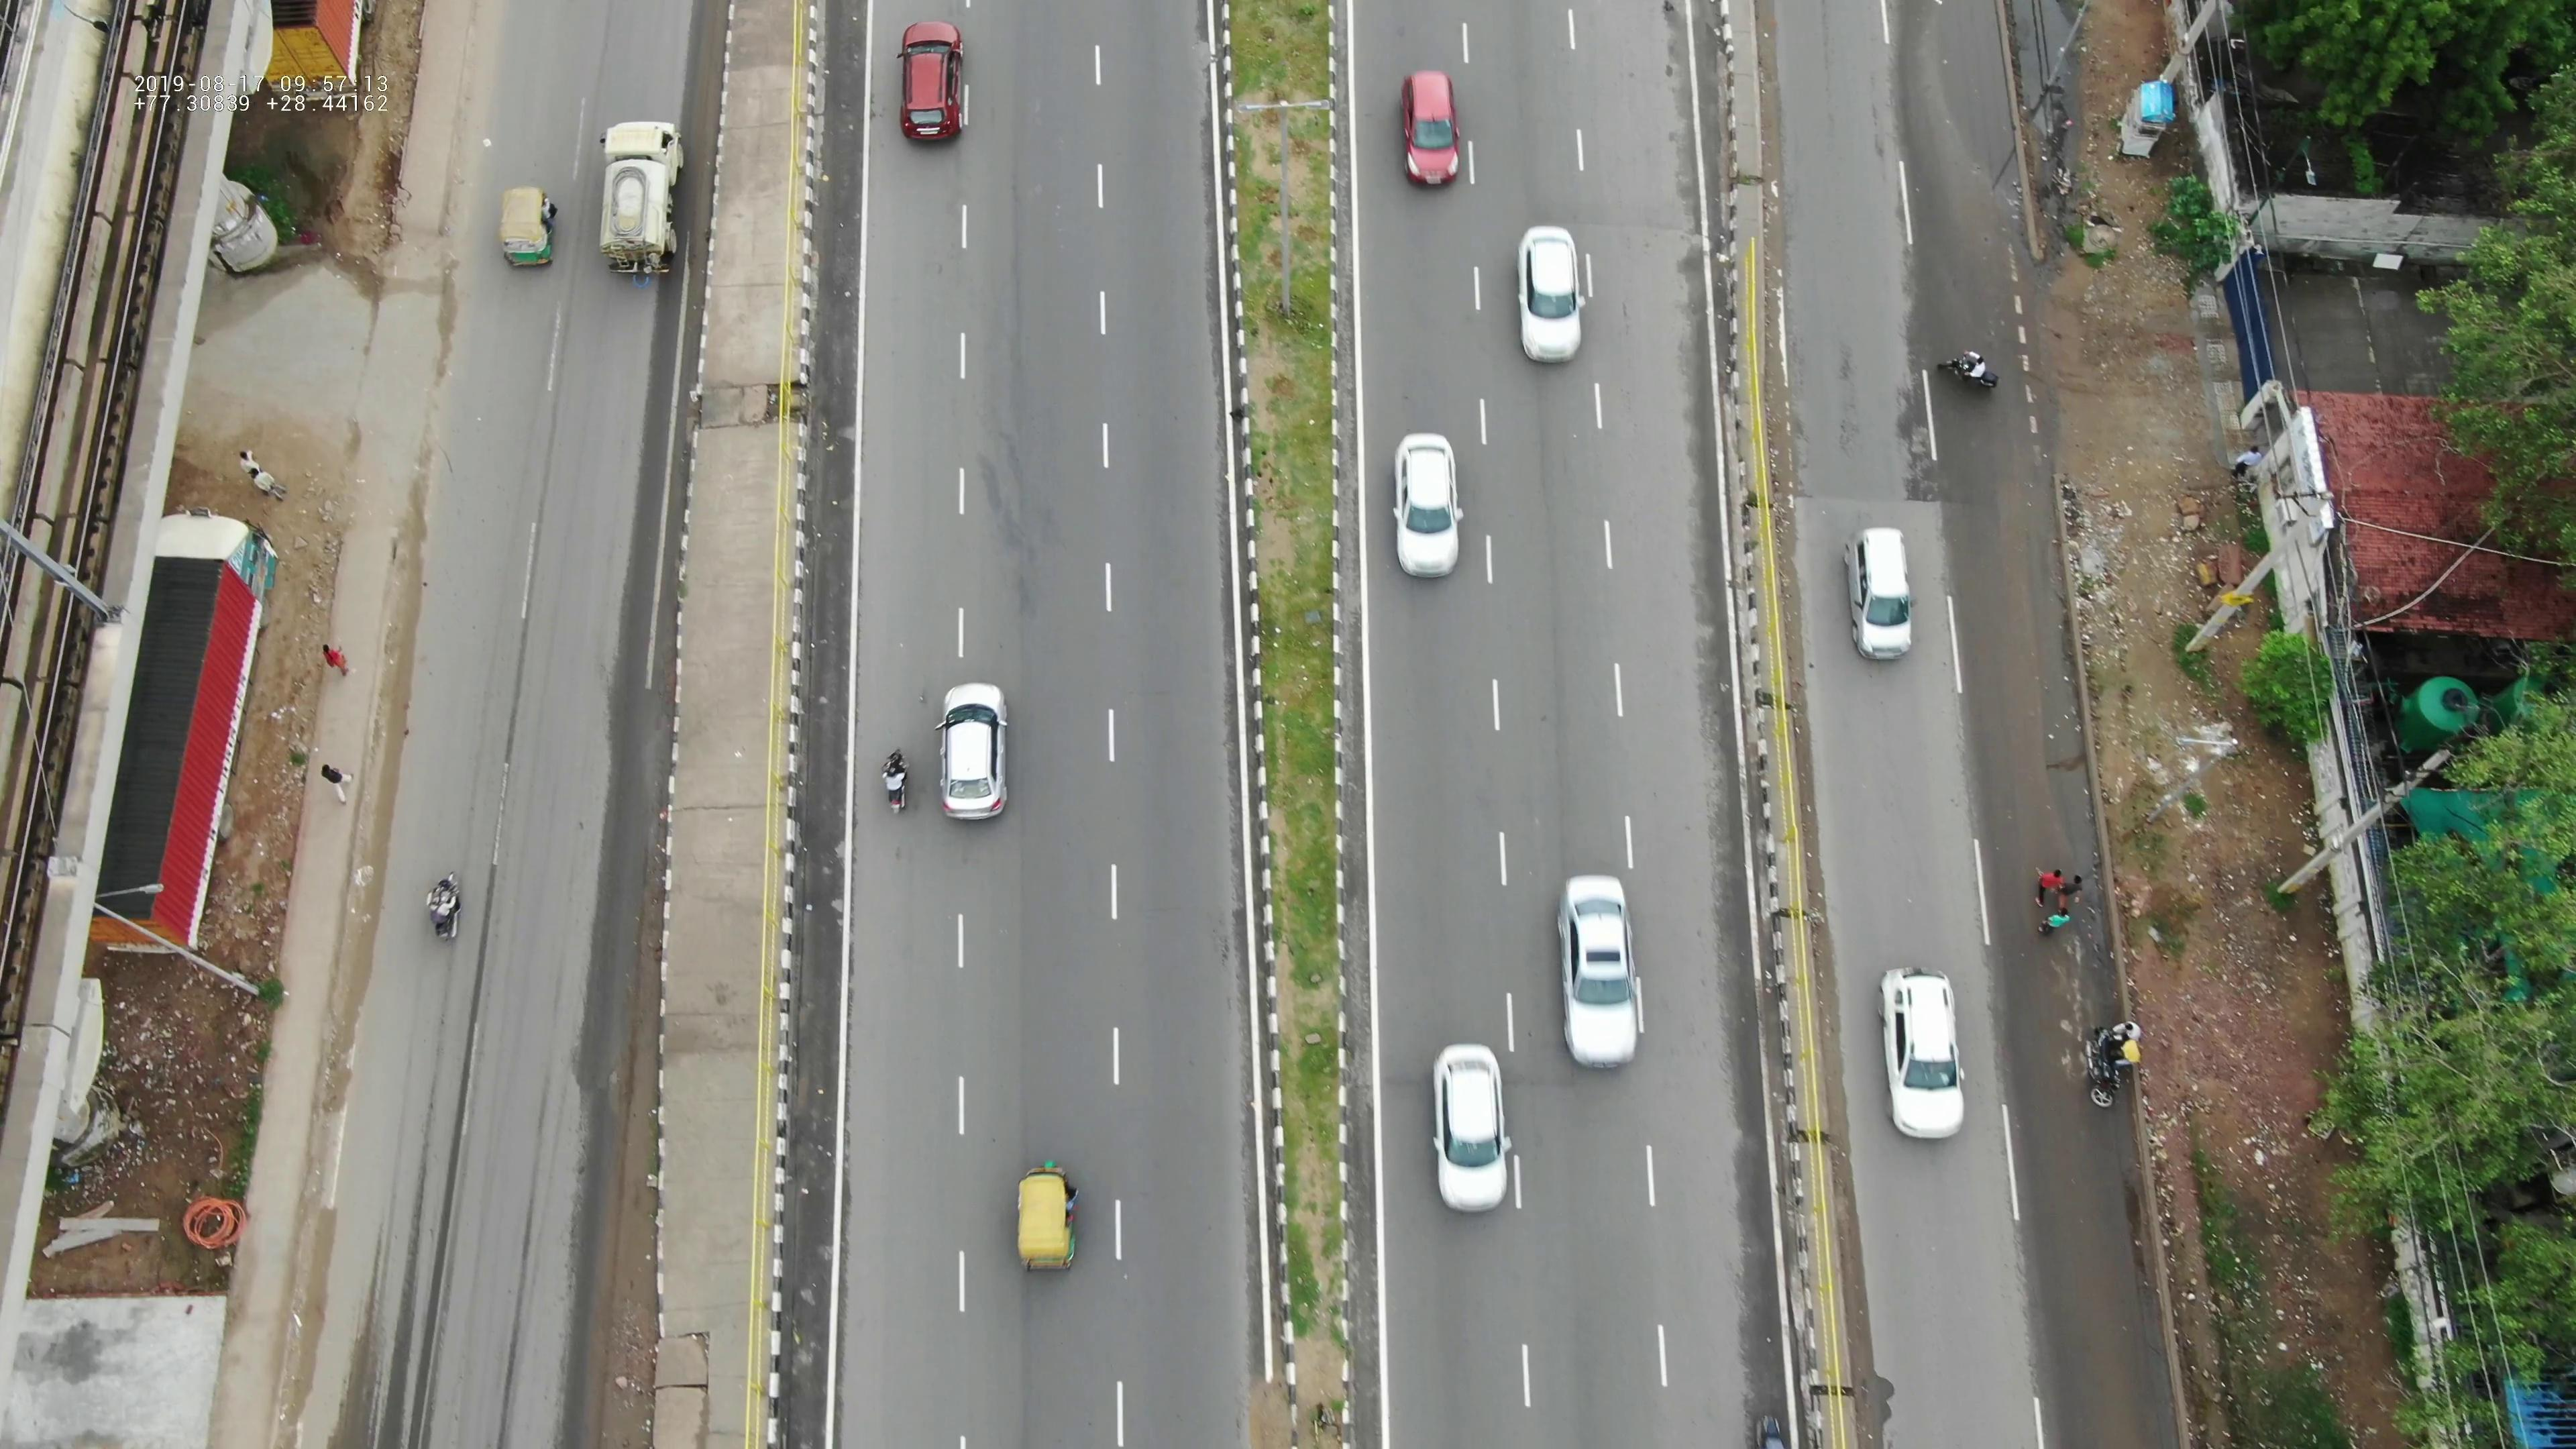Muddy_road: (600, 1228, 669, 1449)
Waterlogging: (1971, 547, 2107, 826), (1909, 14, 2024, 251)
